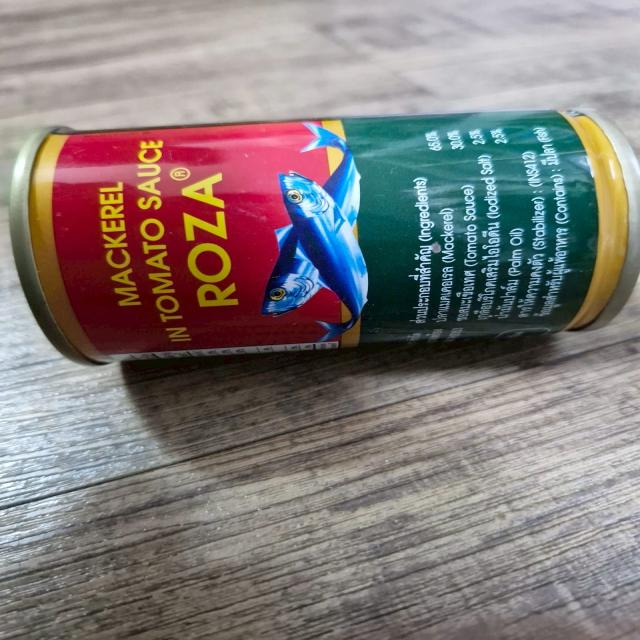can: (2, 116, 640, 377)
